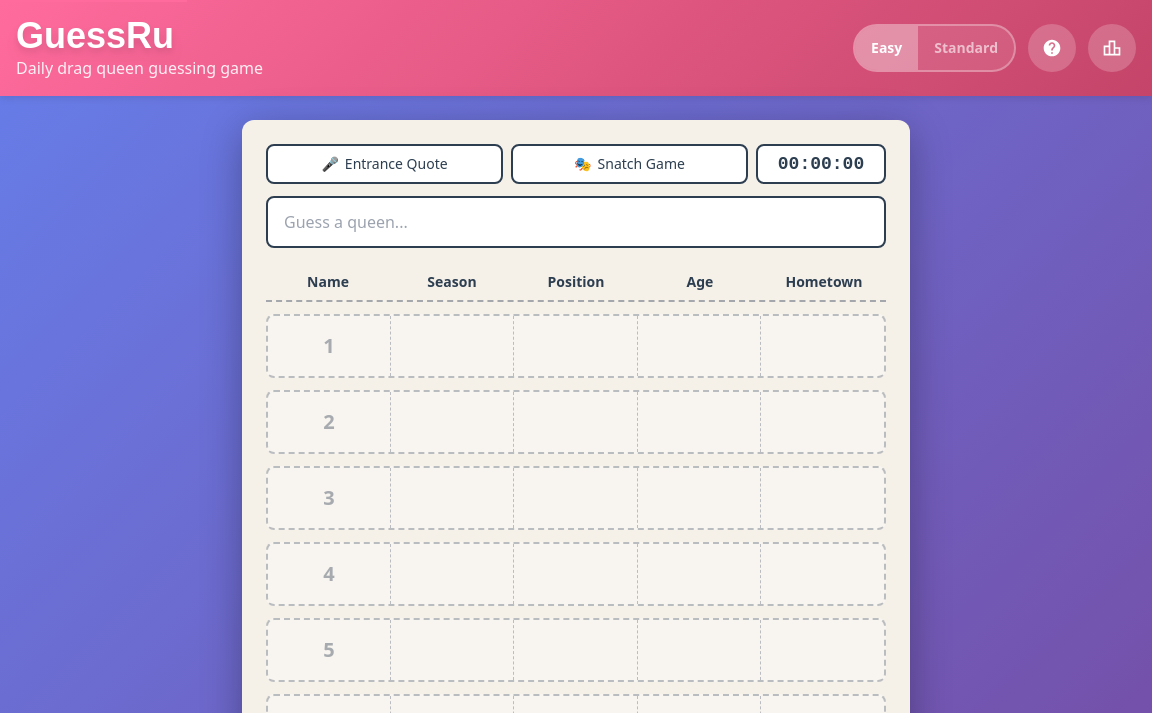
Test case: Integration Tests: Complete Game Flows › Guess Input and Autocomplete › should show autocomplete suggestions when typing
// Type a partial name
Type "Bi" into the dropdown with placeholder "Guess a queen...". click: coordinates (576, 222)
box: [266,196,886,248]
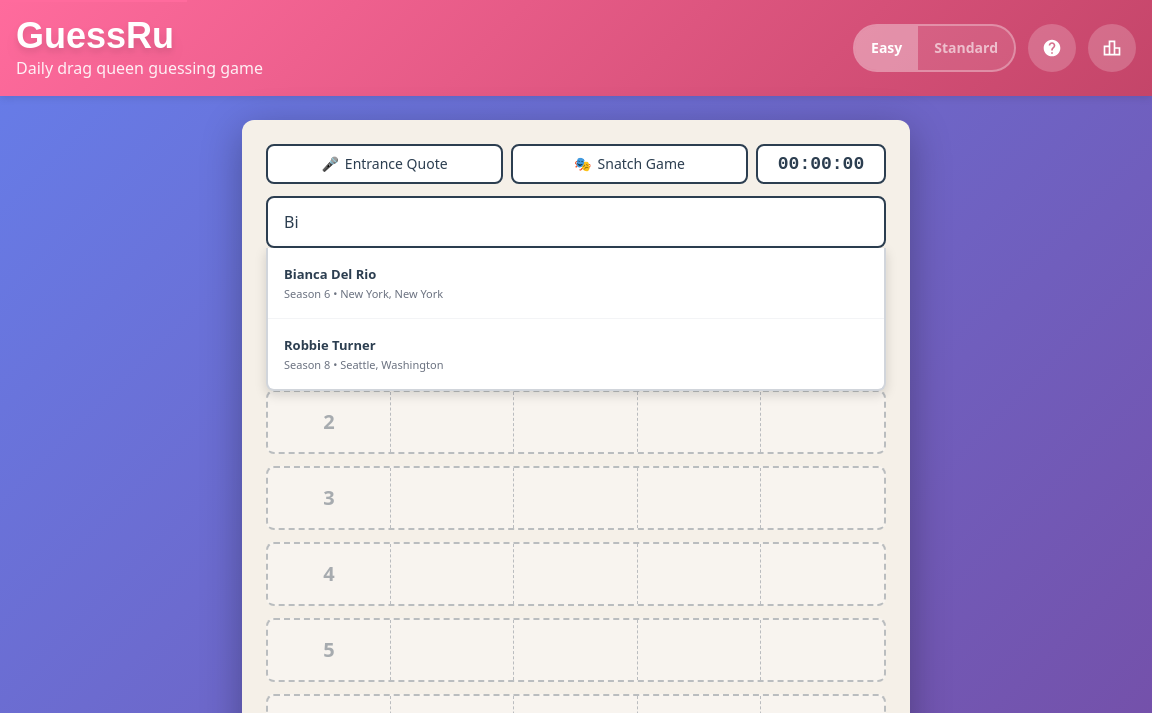
Expected: the list is shown, [266,248,886,391]
